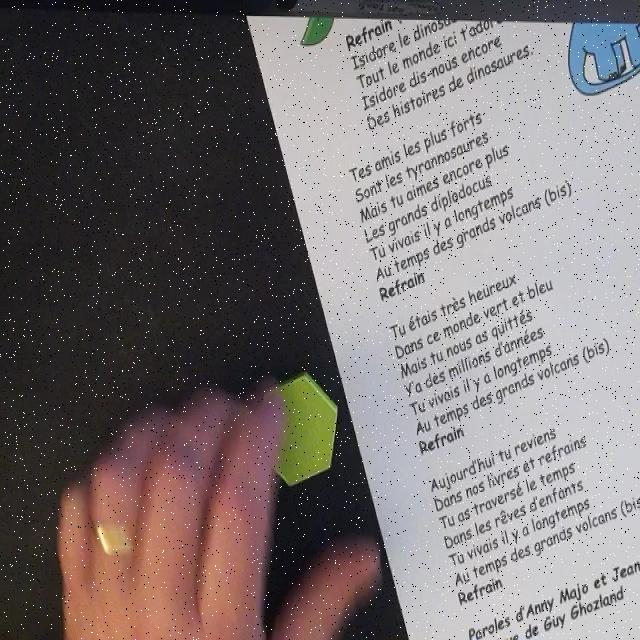hexagon: (251, 370, 340, 490)
